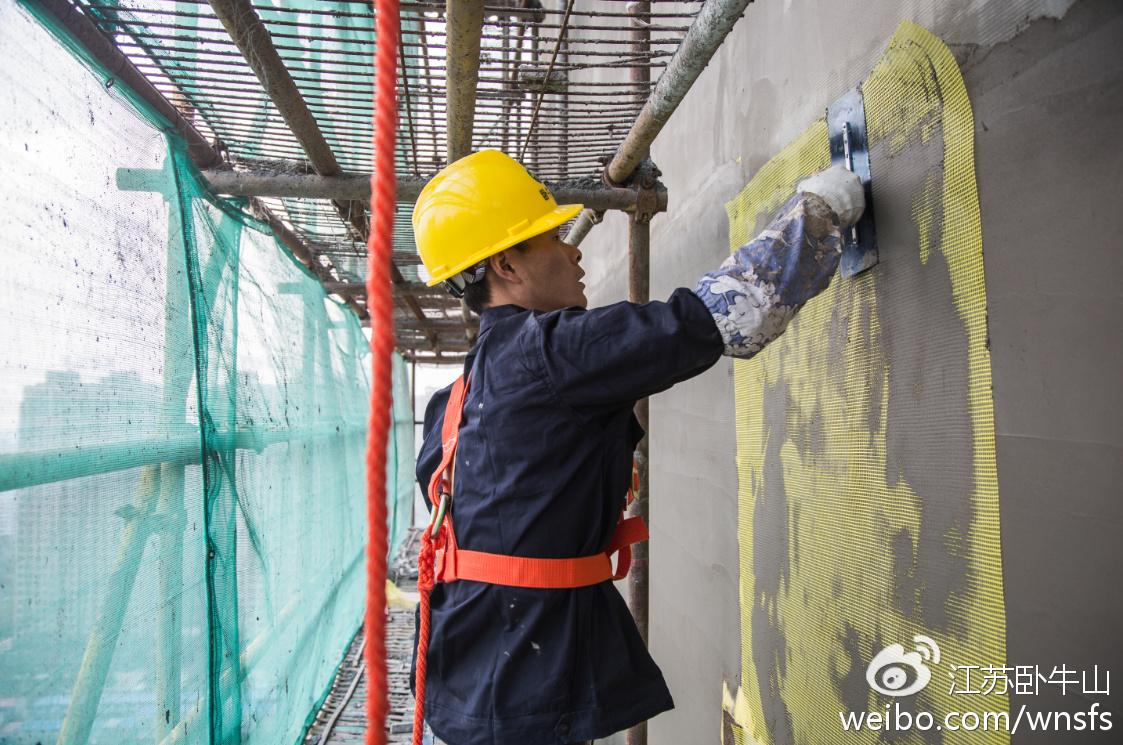helmet: (410, 149, 575, 280)
